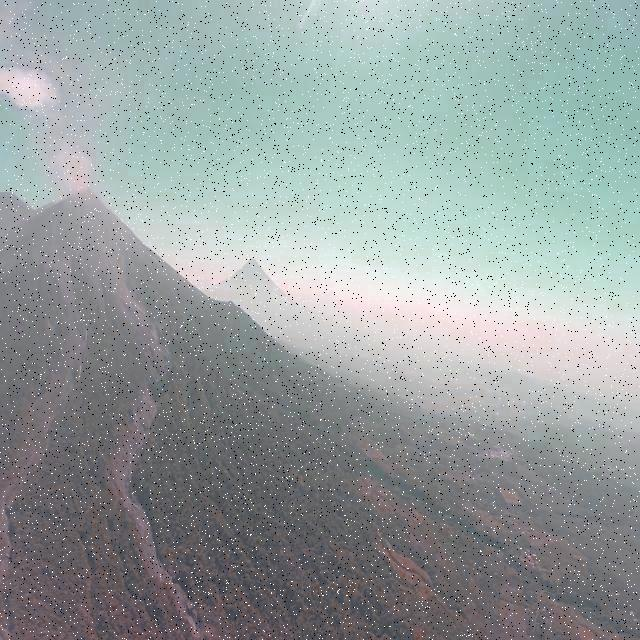Plume: (0, 25, 67, 123), (41, 140, 94, 198)
Summit: (42, 180, 114, 216)
